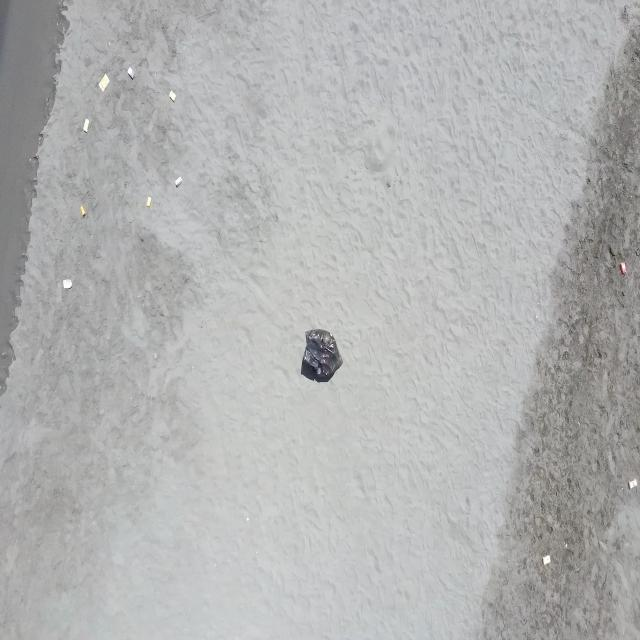retort-pouch: (98, 74, 112, 91), (126, 66, 137, 82), (63, 278, 75, 291), (627, 479, 639, 492), (168, 89, 178, 104), (540, 555, 551, 567), (174, 176, 184, 189), (620, 263, 629, 277), (145, 194, 153, 209), (82, 118, 90, 131), (79, 206, 87, 217)
